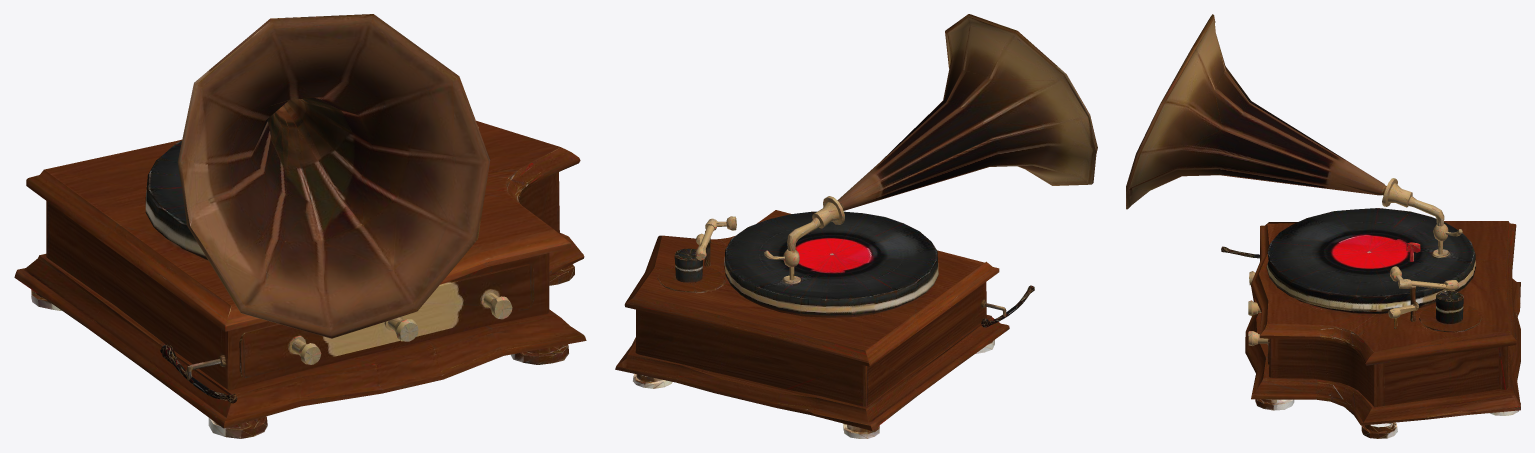
The model's file is lmGramophone.glb.
The picture shows the model from 3 angles, left to right: view 1: azimuth 30°, elevation 25°; view 2: azimuth 150°, elevation 25°; view 3: azimuth 270°, elevation 25°; orthographic projection. The views are drawn at different scales.
Visible parts, largest first — view 1: Mesh_0; view 2: Mesh_0; view 3: Mesh_0.
Boxes of the visible parts, x1,y1,x2,y2 form: Mesh_0: (14, 14, 586, 438); Mesh_0: (615, 14, 1097, 438); Mesh_0: (1126, 14, 1520, 438).
Bounding box in the file's own units: 71.1 × 57.72 × 71.1.
1 material, 1 textured.
